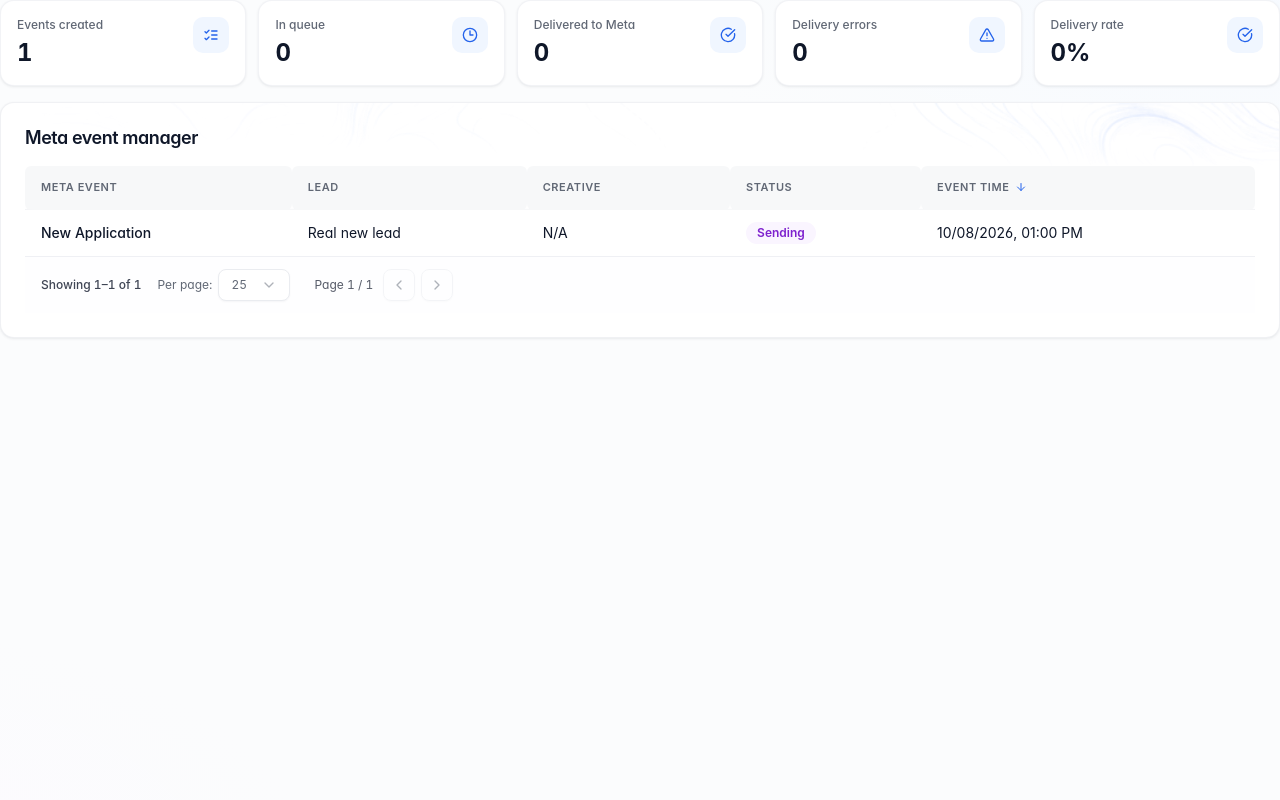
Test: Meta creation events › does not allow retrying processing events
This screenshot has width=1280, height=800.
Click the text "Real new lead": (354, 232) [292,210,527,256]
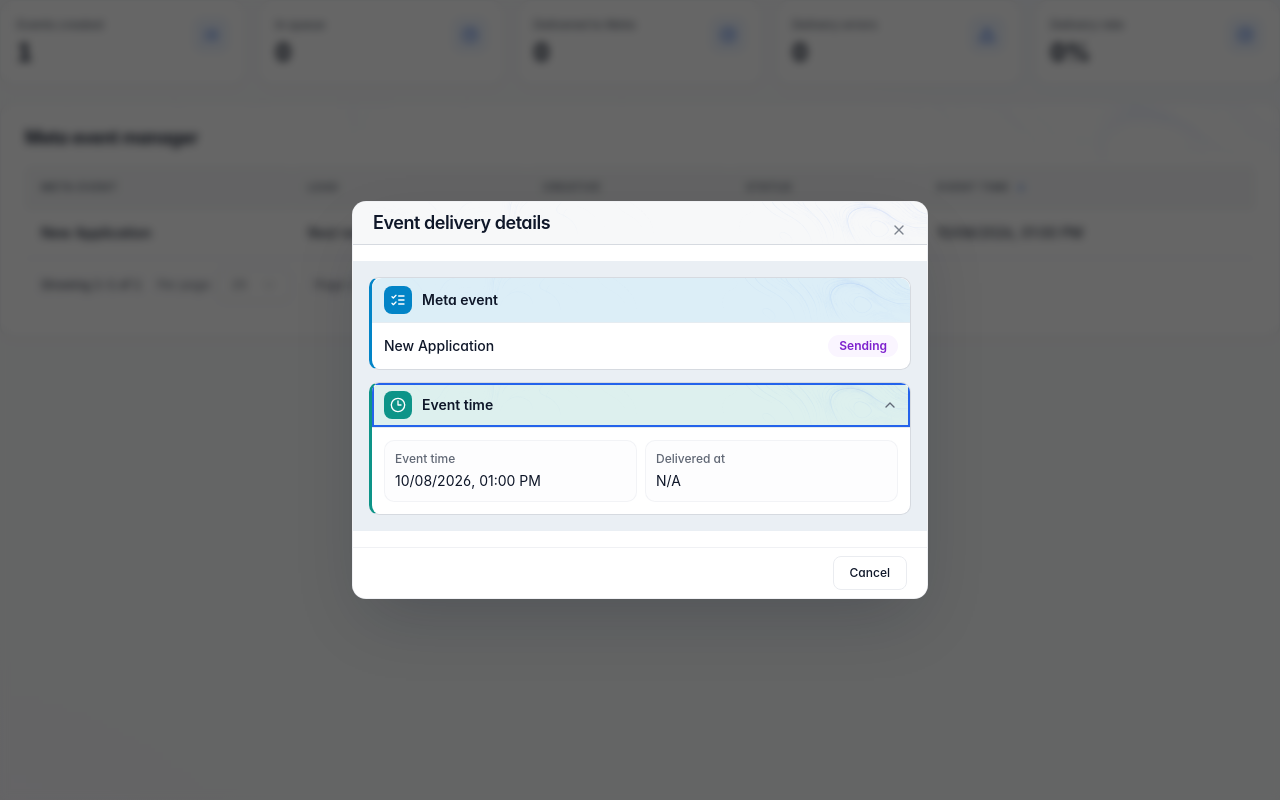
Expected: the text "Sending" is shown, [828,335,898,357]
